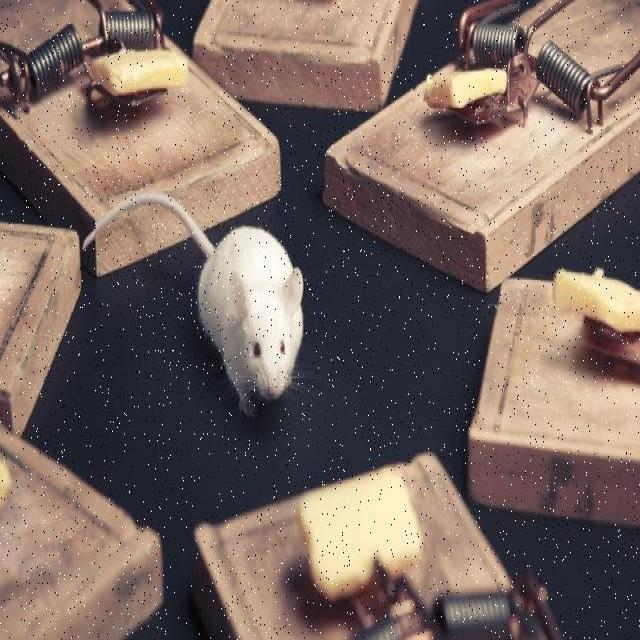rat: (96, 192, 340, 416)
